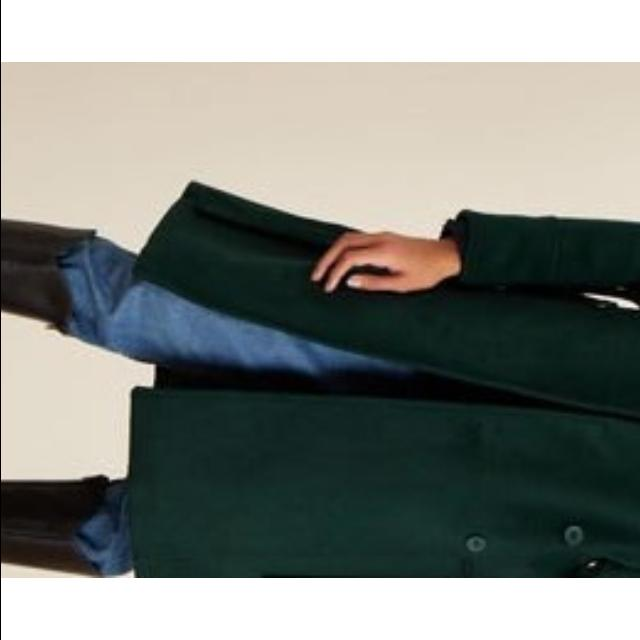wool: (140, 217, 640, 578)
